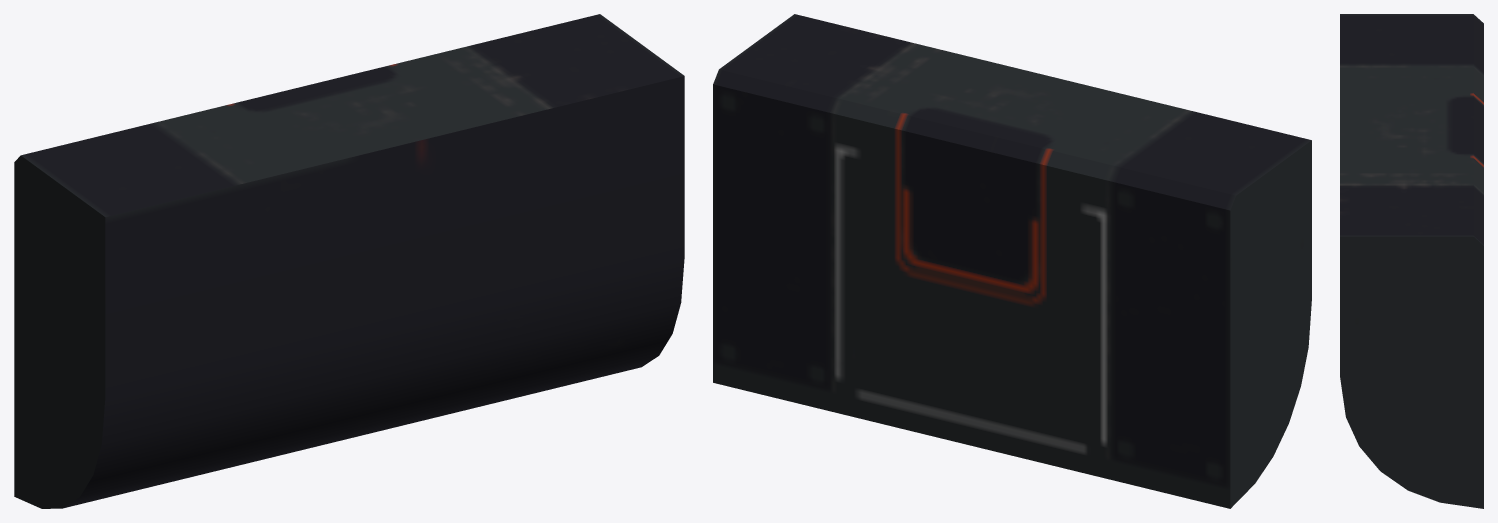
The model's file is Interior2_panel_SciFi_4_BS.fbx.
The picture shows the model from 3 angles, left to right: view 1: azimuth 30°, elevation 25°; view 2: azimuth 150°, elevation 25°; view 3: azimuth 270°, elevation 25°; orthographic projection. The views are drawn at different scales.
Visible parts, largest first — view 1: Interior2_panel_SciFi_4_BS; view 2: Interior2_panel_SciFi_4_BS; view 3: Interior2_panel_SciFi_4_BS.
Part boxes in pixels (x1=…): Interior2_panel_SciFi_4_BS: x1=14, y1=14, x2=684, y2=508; Interior2_panel_SciFi_4_BS: x1=713, y1=14, x2=1311, y2=508; Interior2_panel_SciFi_4_BS: x1=1340, y1=14, x2=1483, y2=508.
Bounding box in the file's own units: 119 × 68.04 × 32.53.
1 material, 1 textured.
